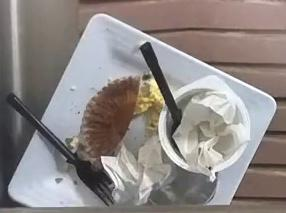scrambled_eggs: (134, 75, 164, 115)
